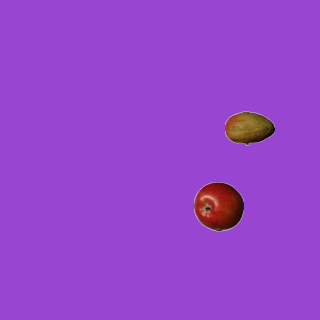Apple Braeburn: (193, 181, 243, 231)
Papaya: (224, 103, 274, 153)
